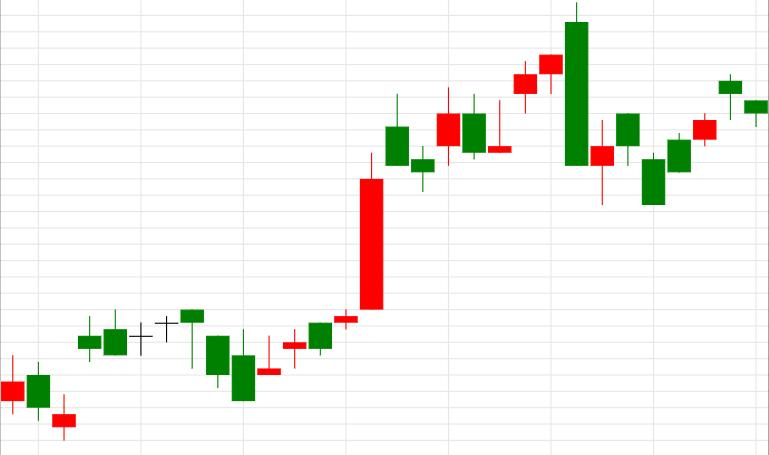bearish_engulfing_fall: (488, 1, 589, 166)
